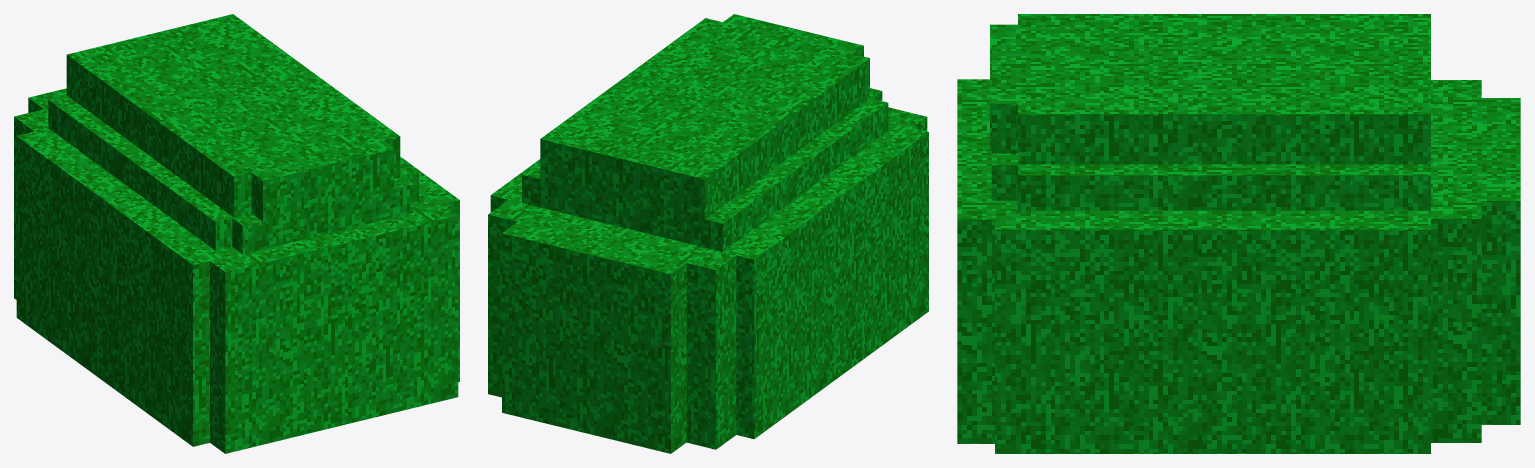
The model's file is BLOCKYGON_GRASS TREE (1).fbx.
3 views of the same model, side by side, from view 1: azimuth 30°, elevation 25°; view 2: azimuth 150°, elevation 25°; view 3: azimuth 270°, elevation 25° (orthographic). The views are drawn at different scales.
Visible parts, largest first — view 1: BLOCKYGON_GRASS_TREE__1_; view 2: BLOCKYGON_GRASS_TREE__1_; view 3: BLOCKYGON_GRASS_TREE__1_.
Boxes of the visible parts, bbox=[...] form: BLOCKYGON_GRASS_TREE__1_: bbox=[14, 14, 459, 453]; BLOCKYGON_GRASS_TREE__1_: bbox=[488, 14, 928, 453]; BLOCKYGON_GRASS_TREE__1_: bbox=[957, 14, 1520, 453].
Size of the model in its own units: 155 by 139 by 230.
Materials: 1 (1 with a texture image).
